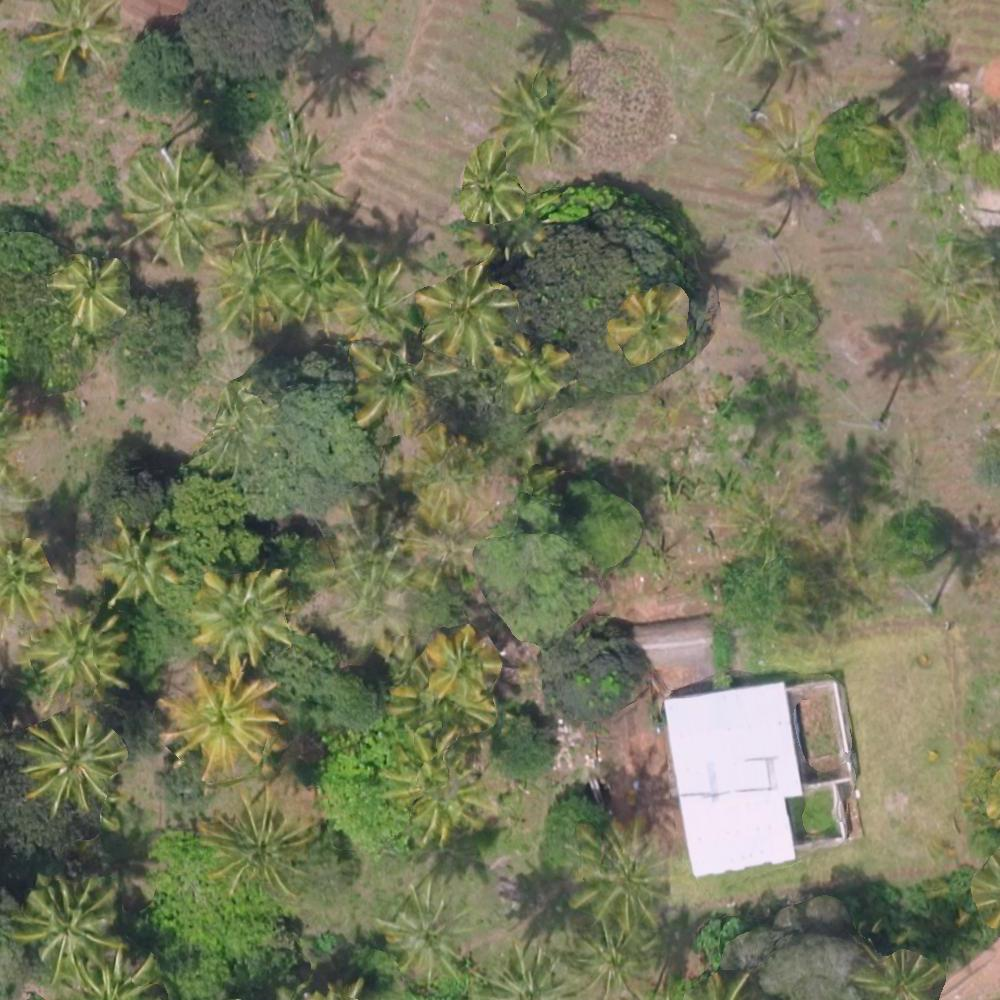Palm: (163, 661, 279, 783), (120, 149, 231, 259), (19, 874, 121, 980), (202, 794, 304, 895), (26, 712, 118, 810), (192, 572, 291, 663), (209, 230, 298, 327), (30, 610, 122, 702), (490, 71, 582, 159), (257, 130, 346, 214), (415, 272, 504, 355), (96, 521, 181, 605), (330, 254, 412, 341), (33, 1, 129, 75), (421, 626, 496, 704), (54, 254, 129, 330), (452, 149, 525, 223), (499, 334, 570, 404), (617, 292, 683, 355)
